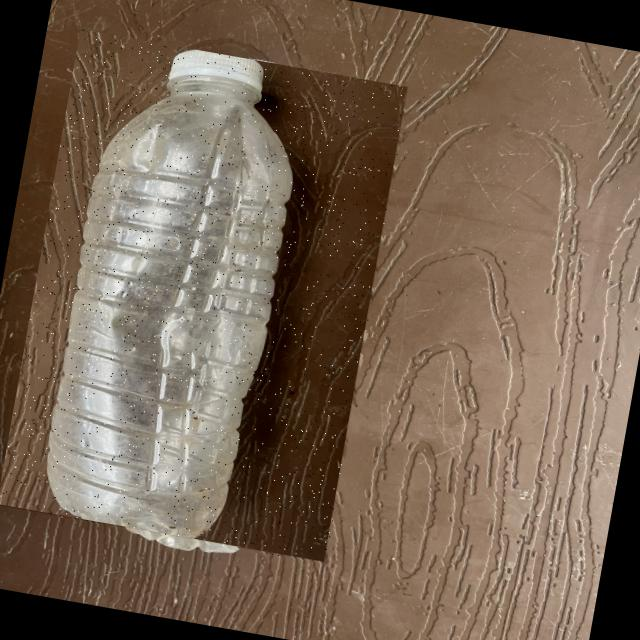REJECT: (0, 29, 409, 564)
